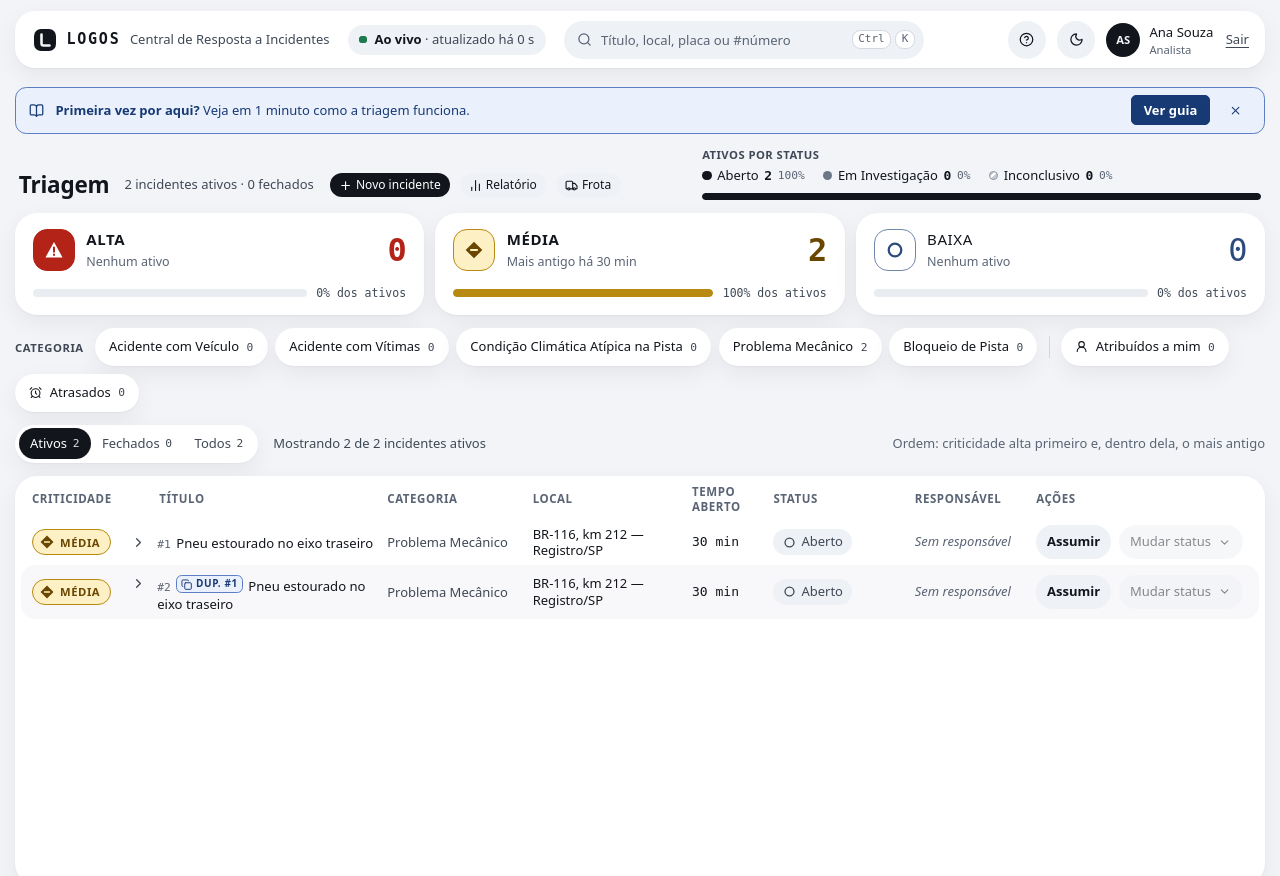
TelaTriagem › possível duplicata: marcador na linha e, nos detalhes, o caminho até o original
Expected: the text "Dup. #1" is shown, [196, 577, 238, 591]
Click the button named "Ver detalhes de #2" at [138, 584], box [125, 570, 152, 597]
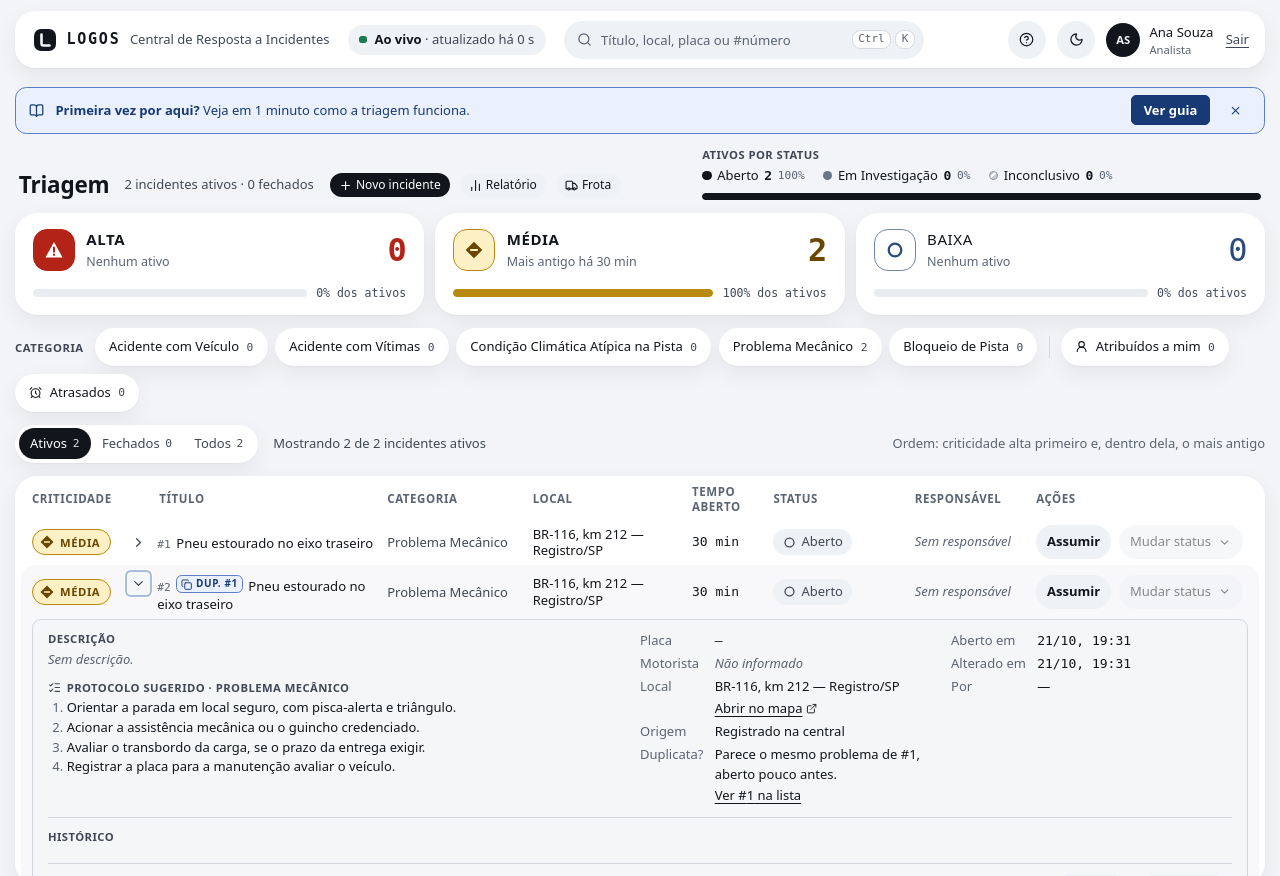
Click the button "Ver #1 na lista" at [758, 796], box [715, 786, 801, 806]
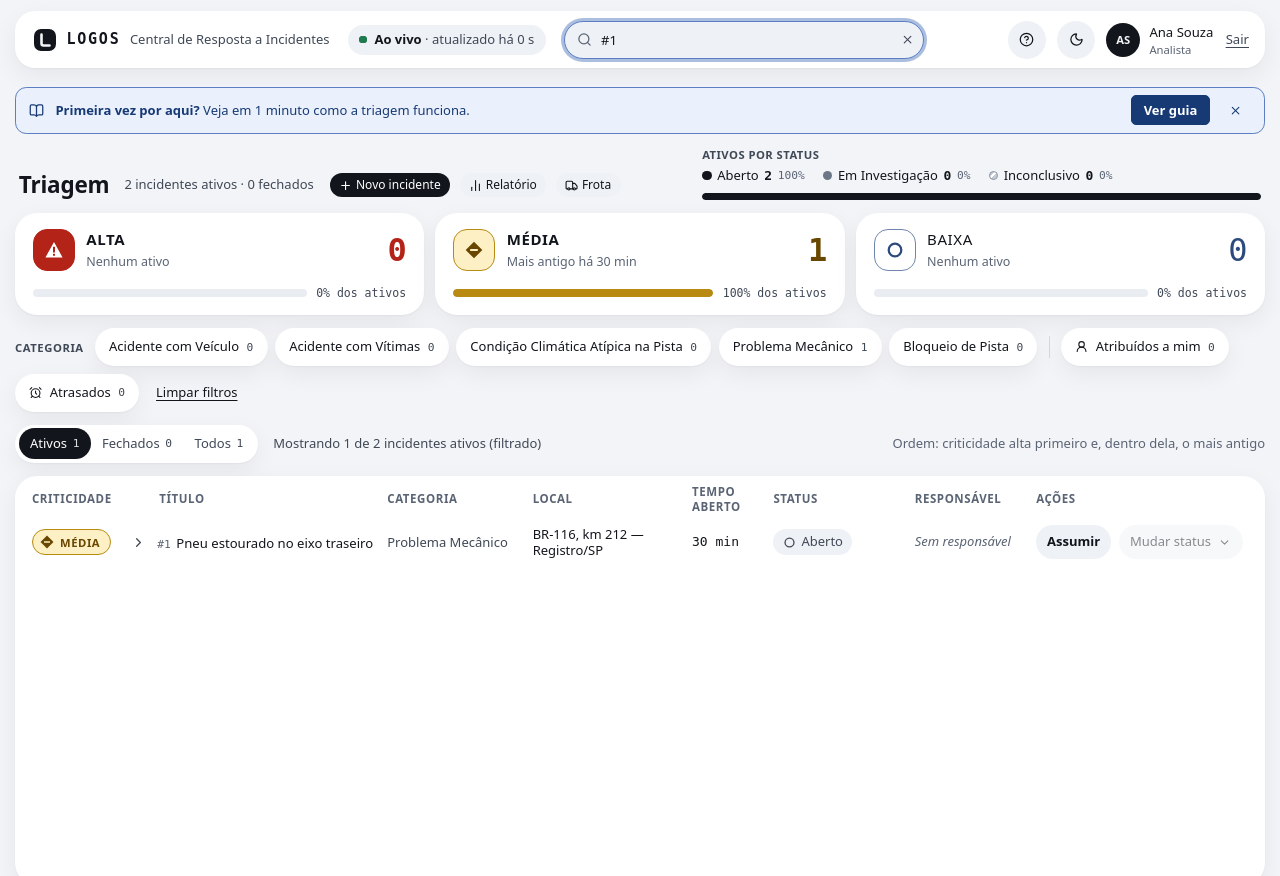
Expected: the search field named "Buscar incidente" holds "#1", [564, 21, 924, 59]
